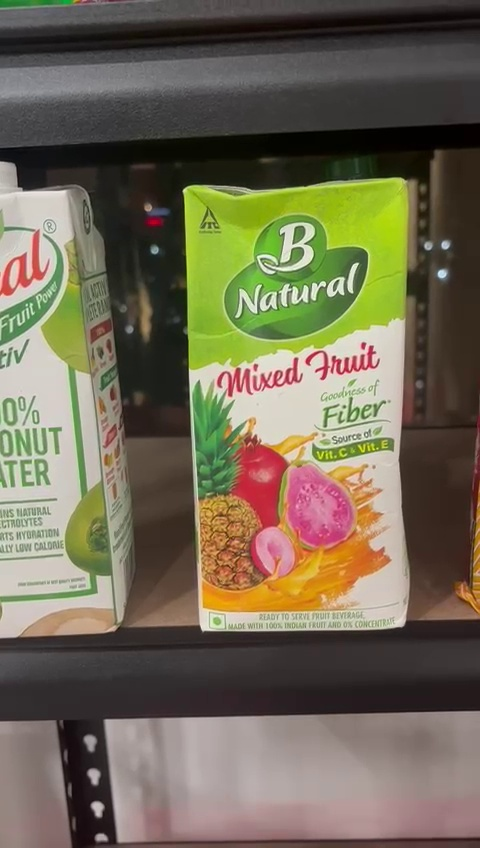Mixed Fruit: (184, 180, 411, 632)
